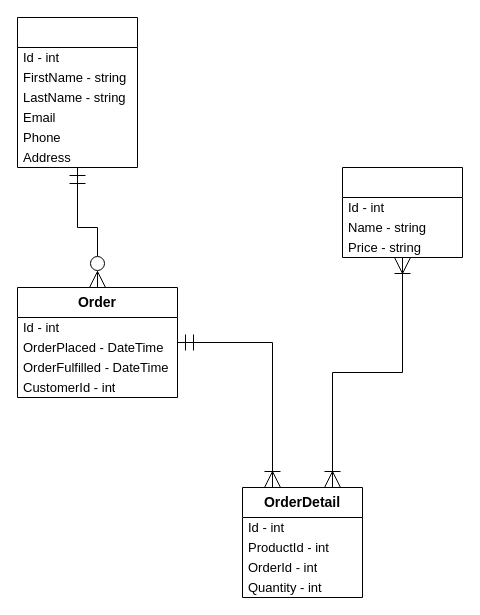
Some shapes in this 480 by 615 pixel diagram are drawn without their labels. The shapes that lost their labels are listed below. From the top down, each one's box as (x1, y1, x2, y2) in pixels, then its label:
(16, 16, 138, 168): Customer
(342, 166, 462, 258): Product
